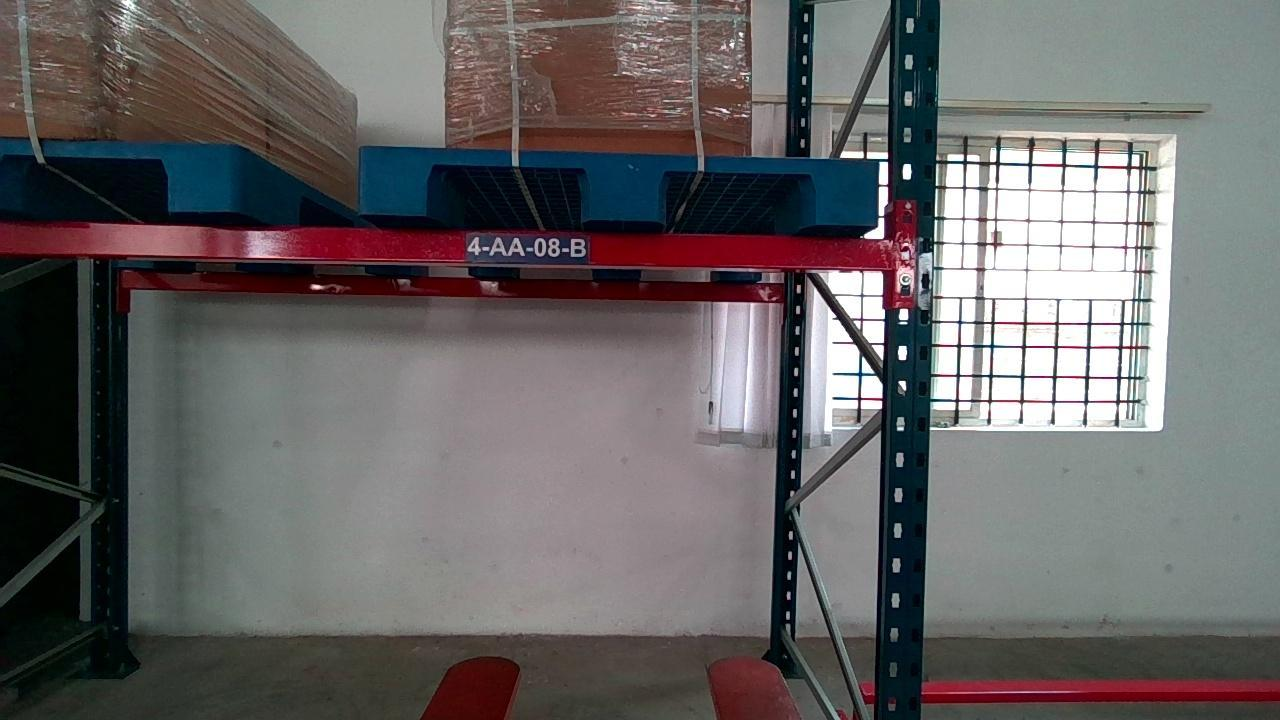h_rack: (0, 220, 891, 270)
small_pallet: (360, 144, 875, 223)
